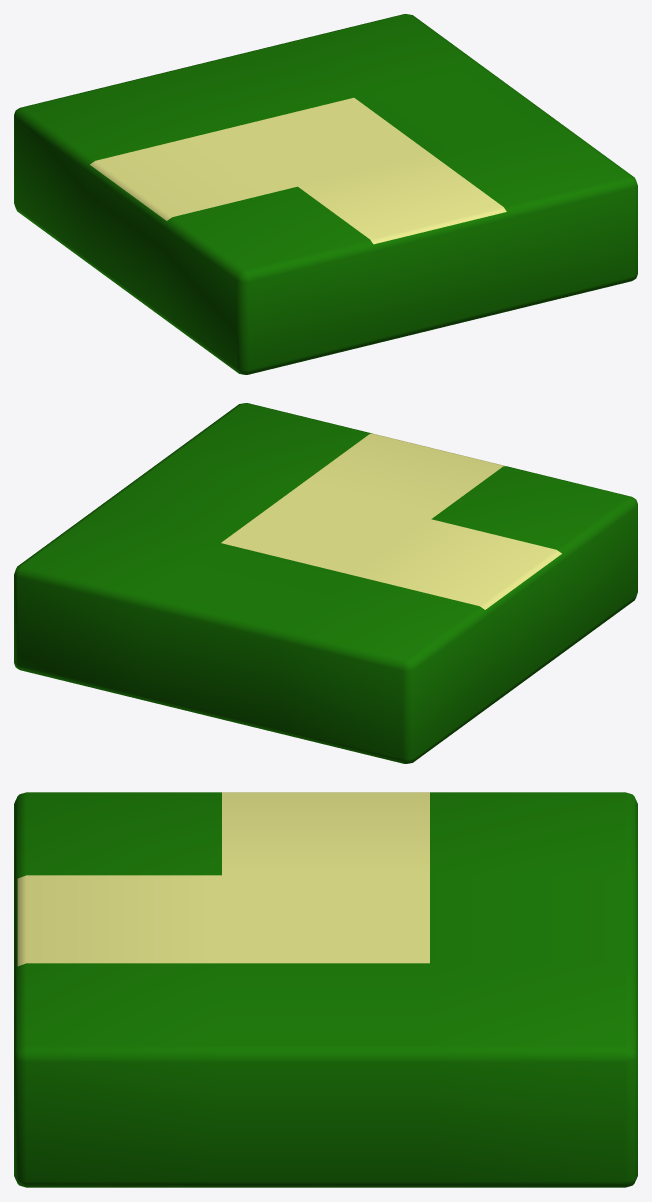
File: turn.glb
3 renders of one model, top to bottom at view 1: azimuth 30°, elevation 25°; view 2: azimuth 150°, elevation 25°; view 3: azimuth 270°, elevation 25°, orthographic. The views are drawn at different scales.
Visible parts, largest first — view 1: Cube; view 2: Cube; view 3: Cube.
Part boxes in pixels (x1,y1,x2,y2): Cube: (14,14,637,374); Cube: (14,403,637,763); Cube: (14,792,637,1187).
Bounding box in the file's own units: 0.5 × 0.125 × 0.5.
